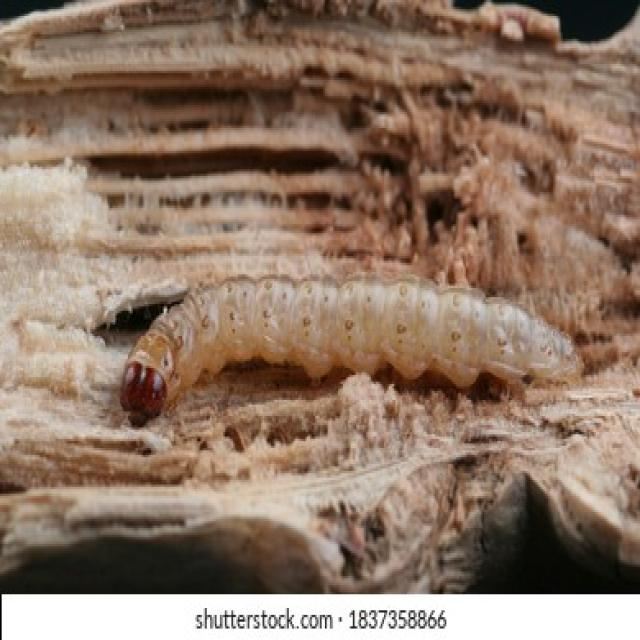cornborer-Larva-: (107, 247, 593, 457)
